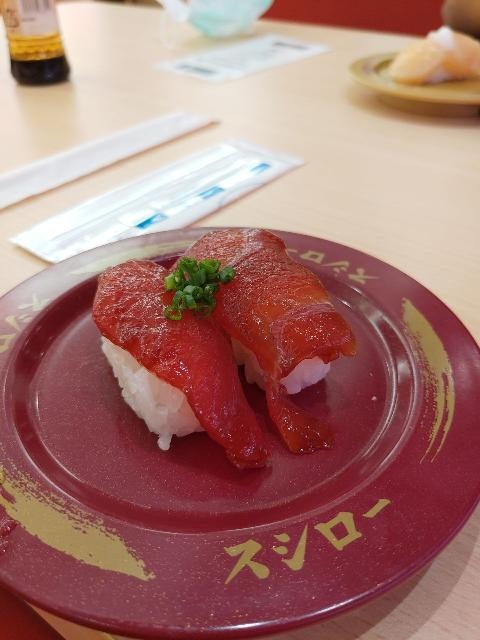jangold: (338, 41, 480, 149)
janred: (14, 256, 460, 602)
